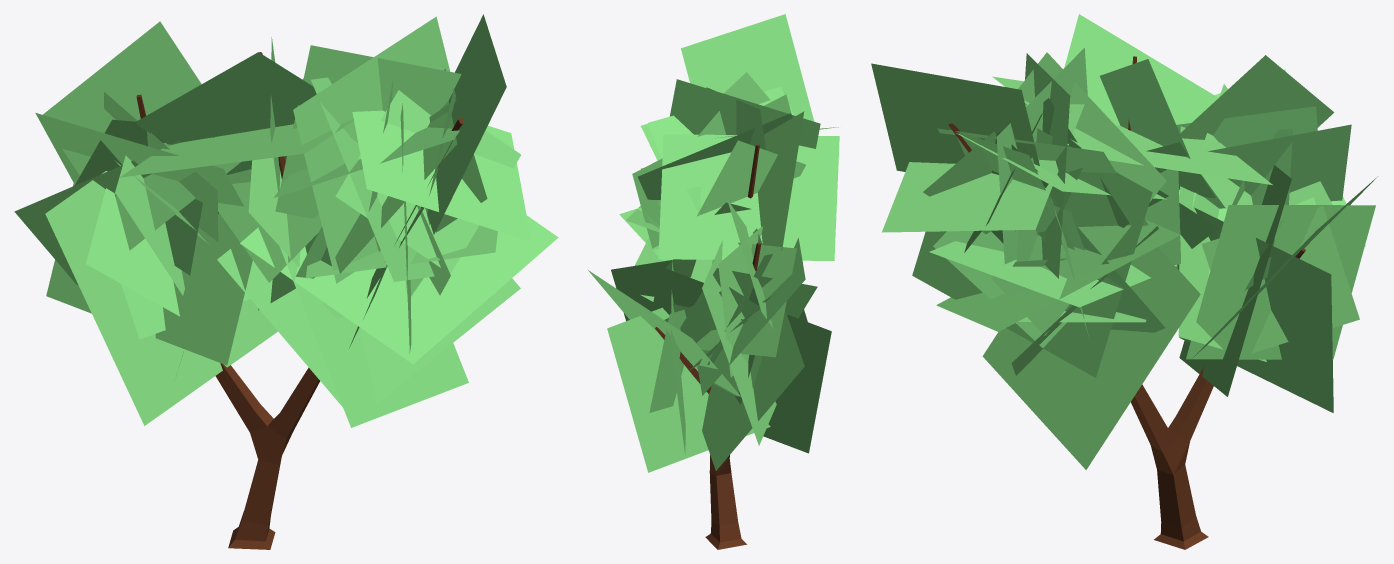
Rendered from tree.fbx.
The picture shows the model from 3 angles, left to right: view 1: azimuth 30°, elevation 25°; view 2: azimuth 150°, elevation 25°; view 3: azimuth 270°, elevation 25°; orthographic projection. The views are drawn at different scales.
Visible parts, largest first — view 1: Vert.021|Plane.007|Dupli|44, Vert.021|Plane.007|Dupli|2, Vert.021|Plane.007|Dupli|39, Vert.021|Plane.007|Dupli|14, Vert.021|Plane.007|Dupli|29, Vert.021|Plane.007|Dupli|9, Vert.021|Plane.007|Dupli|31, Vert.021|Plane.007|Dupli|5, Vert.021|Plane.007|Dupli|4, Vert.021, Vert.021|Plane.007|Dupli|12, Vert.021|Plane.007|Dupli|30 (+19 smaller); view 2: Vert.021|Plane.007|Dupli|10, Vert.021|Plane.007|Dupli|40, Vert.021|Plane.007|Dupli|30, Vert.021|Plane.007|Dupli|44, Vert.021|Plane.007|Dupli|46, Vert.021|Plane.007|Dupli|9, Vert.021|Plane.007|Dupli|14, Vert.021, Vert.021|Plane.007|Dupli|11, Vert.021|Plane.007|Dupli|37, Vert.021|Plane.007|Dupli|31, Vert.021|Plane.007|Dupli|35 (+21 smaller); view 3: Vert.021|Plane.007|Dupli|5, Vert.021|Plane.007|Dupli|41, Vert.021|Plane.007|Dupli|30, Vert.021|Plane.007|Dupli|23, Vert.021|Plane.007|Dupli|40, Vert.021|Plane.007|Dupli|29, Vert.021|Plane.007|Dupli|17, Vert.021, Vert.021|Plane.007|Dupli|9, Vert.021|Plane.007|Dupli|31, Vert.021|Plane.007|Dupli|39, Vert.021|Plane.007|Dupli|2 (+26 smaller).
Boxes of the visible parts, x1,y1,x2,y2 form: Vert.021|Plane.007|Dupli|44: (45, 171, 277, 425); Vert.021|Plane.007|Dupli|2: (240, 215, 558, 363); Vert.021|Plane.007|Dupli|39: (43, 21, 240, 250); Vert.021|Plane.007|Dupli|14: (293, 16, 450, 283); Vert.021|Plane.007|Dupli|29: (352, 110, 531, 241); Vert.021|Plane.007|Dupli|9: (136, 52, 316, 174); Vert.021|Plane.007|Dupli|31: (46, 169, 252, 365); Vert.021|Plane.007|Dupli|5: (280, 247, 468, 427); Vert.021|Plane.007|Dupli|4: (217, 249, 520, 406); Vert.021: (136, 52, 463, 549); Vert.021|Plane.007|Dupli|12: (275, 45, 461, 218); Vert.021|Plane.007|Dupli|30: (425, 14, 506, 234); Vert.021|Plane.007|Dupli|10: (658, 134, 839, 260); Vert.021|Plane.007|Dupli|40: (607, 307, 770, 472); Vert.021|Plane.007|Dupli|30: (681, 14, 814, 121); Vert.021|Plane.007|Dupli|44: (651, 266, 831, 453); Vert.021|Plane.007|Dupli|46: (702, 228, 804, 470); Vert.021|Plane.007|Dupli|9: (758, 111, 804, 250); Vert.021|Plane.007|Dupli|14: (670, 79, 820, 148); Vert.021: (655, 144, 761, 549); Vert.021|Plane.007|Dupli|11: (697, 140, 805, 216); Vert.021|Plane.007|Dupli|37: (696, 242, 796, 357); Vert.021|Plane.007|Dupli|31: (702, 240, 776, 445); Vert.021|Plane.007|Dupli|35: (697, 238, 805, 395); Vert.021|Plane.007|Dupli|5: (982, 247, 1200, 469); Vert.021|Plane.007|Dupli|41: (1186, 205, 1375, 359); Vert.021|Plane.007|Dupli|30: (871, 63, 1039, 171); Vert.021|Plane.007|Dupli|23: (912, 128, 1152, 377); Vert.021|Plane.007|Dupli|40: (1178, 207, 1333, 412); Vert.021|Plane.007|Dupli|29: (881, 104, 1084, 232); Vert.021|Plane.007|Dupli|17: (991, 52, 1166, 335); Vert.021: (948, 56, 1305, 549); Vert.021|Plane.007|Dupli|9: (1064, 14, 1218, 266); Vert.021|Plane.007|Dupli|31: (1176, 124, 1351, 268); Vert.021|Plane.007|Dupli|39: (1180, 55, 1334, 139); Vert.021|Plane.007|Dupli|2: (936, 220, 1180, 331).
Size of the model in its own units: 333 by 462 by 413.
